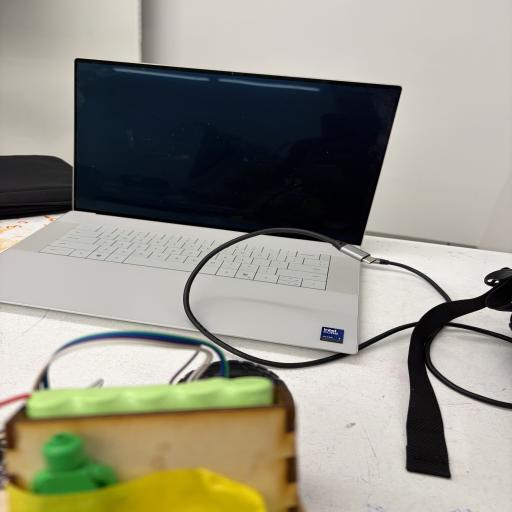Green-Lego: (30, 433, 104, 512)
